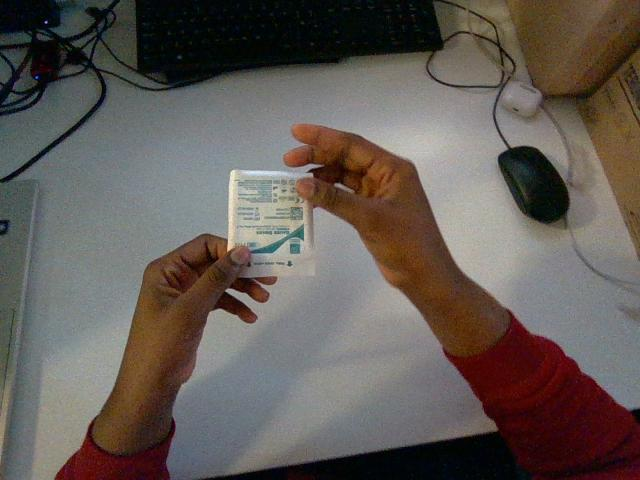gauze: (228, 170, 314, 277)
